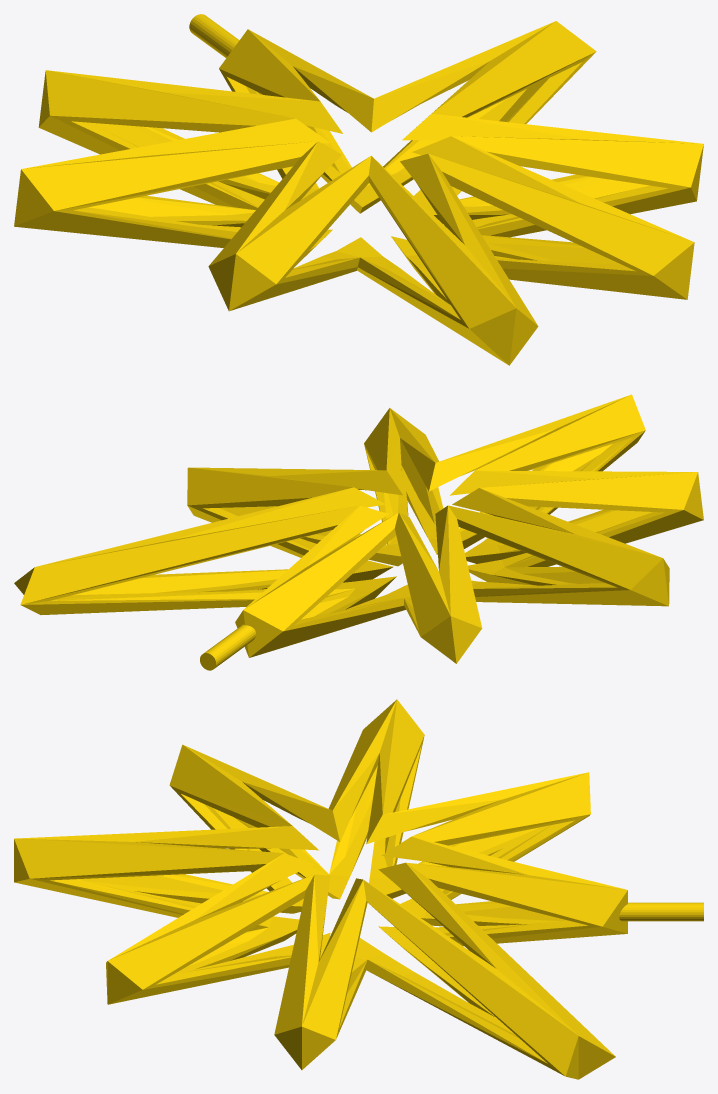
File: gStar.obj
3 views of the same model, one above another, from view 1: azimuth 30°, elevation 25°; view 2: azimuth 150°, elevation 25°; view 3: azimuth 270°, elevation 25° (orthographic). The views are drawn at different scales.
Visible parts, largest first — view 1: polySurface1 star_1_03_1Pin; view 2: polySurface1 star_1_03_1Pin; view 3: polySurface1 star_1_03_1Pin.
Part boxes in pixels (<box>): polySurface1 star_1_03_1Pin: <box>14,14,703,365</box>; polySurface1 star_1_03_1Pin: <box>14,394,703,670</box>; polySurface1 star_1_03_1Pin: <box>14,699,703,1079</box>.
Size of the model in its own units: 15.68 by 3.16 by 16.39.
